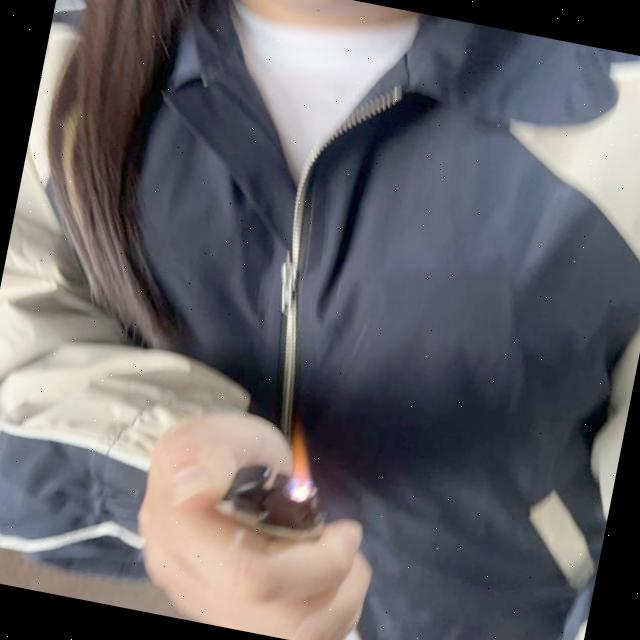fire: (284, 431, 324, 492)
